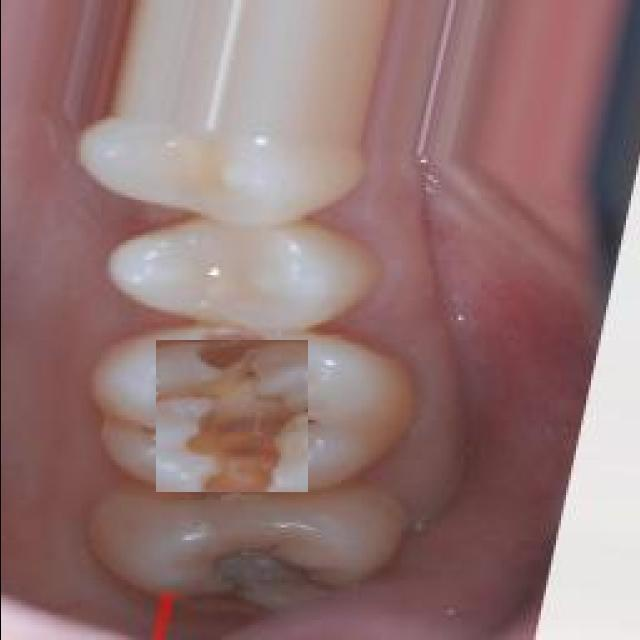decay: (155, 340, 307, 492), (173, 540, 325, 595)
